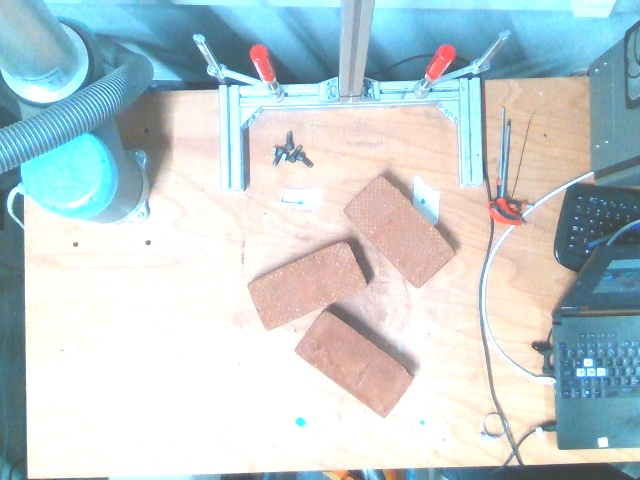brick: (295, 309, 416, 419), (343, 173, 455, 290), (248, 240, 367, 331)
